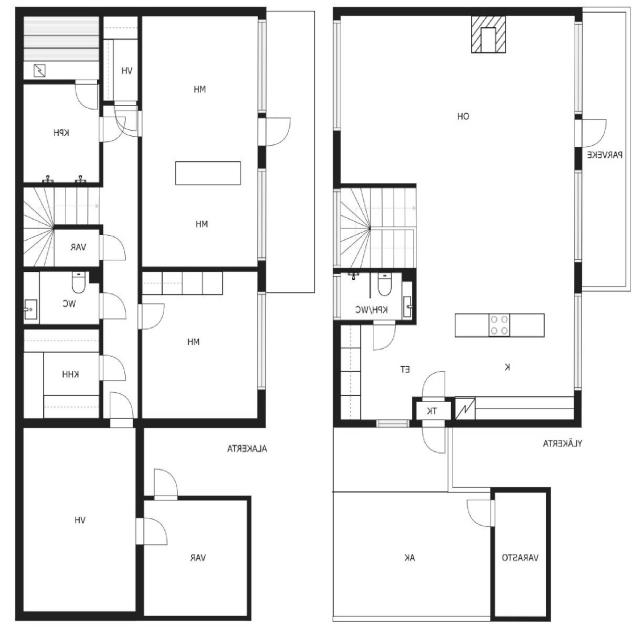door: (572, 112, 612, 150), (256, 110, 294, 148), (134, 514, 172, 552), (150, 462, 182, 503), (105, 386, 136, 428), (134, 297, 170, 332), (95, 288, 130, 323), (96, 351, 130, 386), (94, 232, 130, 264), (71, 76, 102, 113), (419, 366, 448, 404), (113, 101, 142, 139), (463, 496, 496, 528), (369, 317, 398, 353), (421, 417, 447, 455), (97, 114, 122, 144)
window: (326, 16, 347, 134), (566, 15, 590, 117), (252, 13, 273, 117), (569, 165, 589, 266), (251, 164, 271, 265), (252, 287, 270, 393), (568, 289, 586, 394), (371, 415, 413, 431), (330, 273, 343, 319)
zone: (334, 10, 580, 183), (137, 6, 265, 275), (18, 422, 140, 615), (138, 265, 264, 420), (140, 493, 252, 619), (451, 332, 579, 425), (19, 79, 101, 185), (338, 321, 420, 423), (18, 328, 102, 422), (493, 487, 548, 619), (19, 14, 102, 81), (17, 267, 102, 327), (333, 270, 416, 322), (100, 12, 141, 104)
